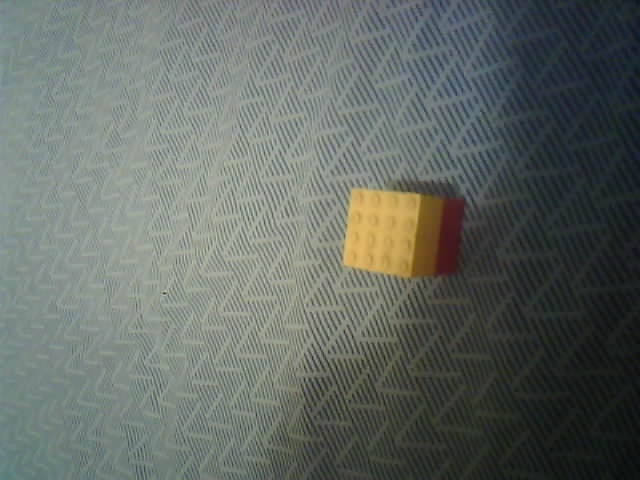lego: (341, 186, 465, 282)
